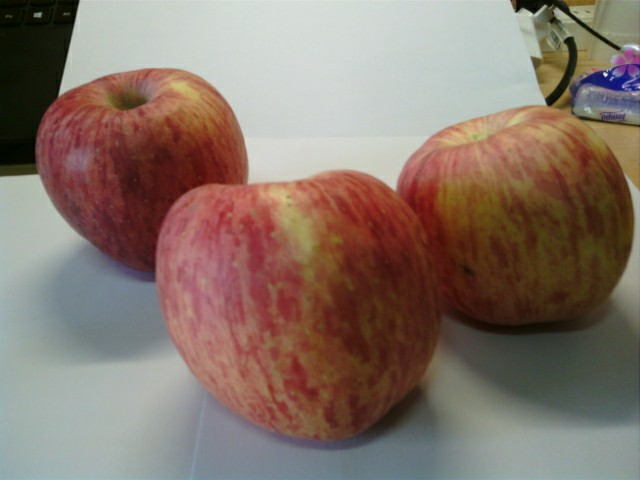normal_apple: (148, 168, 446, 446), (400, 105, 634, 332), (29, 67, 250, 270)
